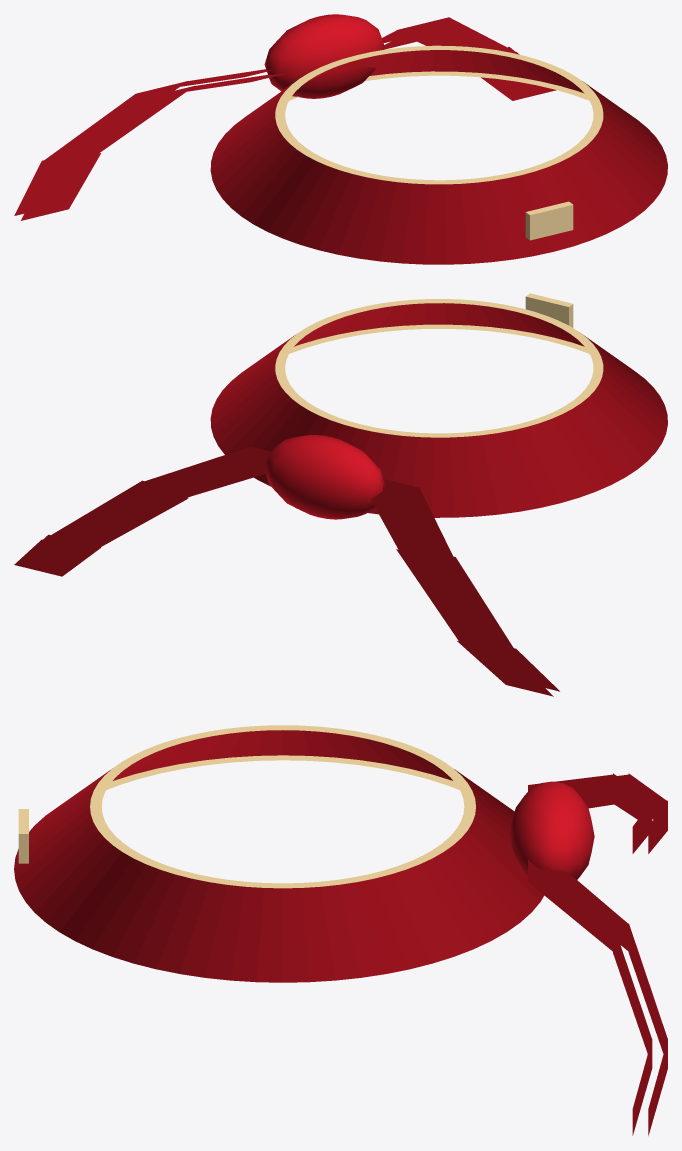
File: copy_band_pink.obj
The picture shows the model from 3 angles, top to bottom: view 1: azimuth 30°, elevation 25°; view 2: azimuth 150°, elevation 25°; view 3: azimuth 270°, elevation 25°; orthographic projection. The views are drawn at different scales.
Parts seen in each view (by area): view 1: copy_band_pink; view 2: copy_band_pink; view 3: copy_band_pink.
Boxes of the visible parts, x1,y1,x2,y2 form: copy_band_pink: (14,14,667,264); copy_band_pink: (14,293,667,696); copy_band_pink: (14,725,667,1135).
Bounding box in the file's own units: 1.12 × 0.32 × 0.9987.
